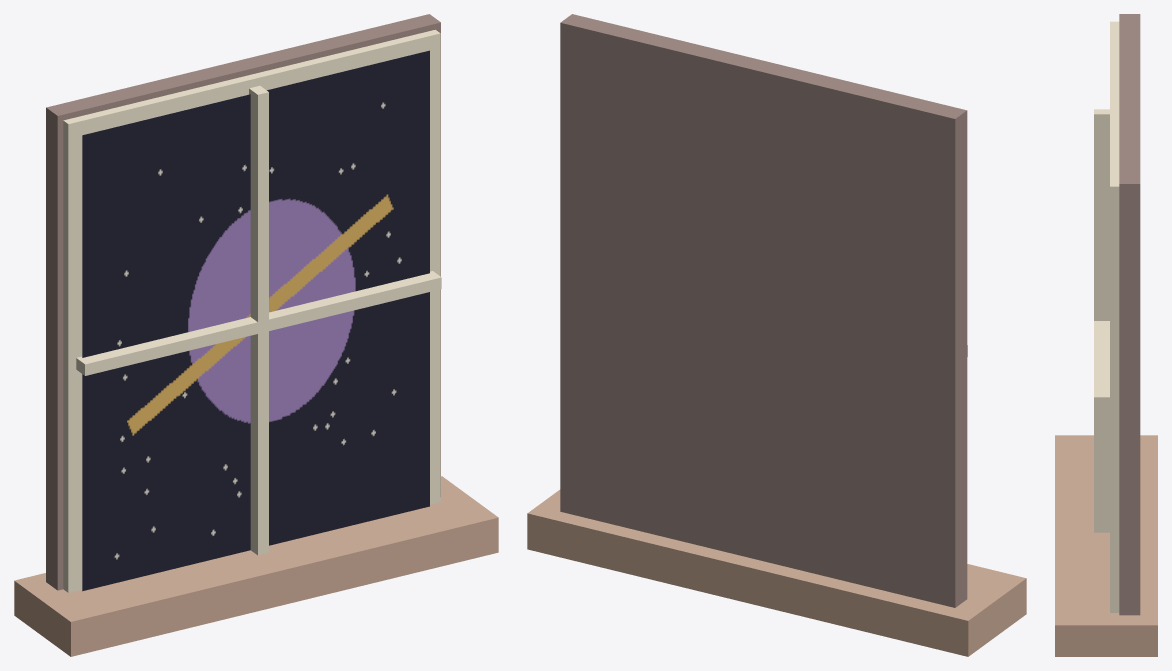
File: 15_ventana_espacio.glb
3 renders of one model, left to right at view 1: azimuth 30°, elevation 25°; view 2: azimuth 150°, elevation 25°; view 3: azimuth 270°, elevation 25°, orthographic. The views are drawn at different scales.
Visible parts, largest first — view 1: surface, body (×3); view 2: body (×2); view 3: body (×3).
Boxes of the visible parts, left/top/right/bottom form: surface: left=82, top=50, right=429, bottom=591; body (×3): left=14, top=14, right=498, bottom=656; body (×2): left=527, top=14, right=1026, bottom=656; body (×3): left=1055, top=14, right=1157, bottom=656.
Size of the model in its own units: 0.96 by 1.09 by 0.22.
4 materials, 1 textured.
